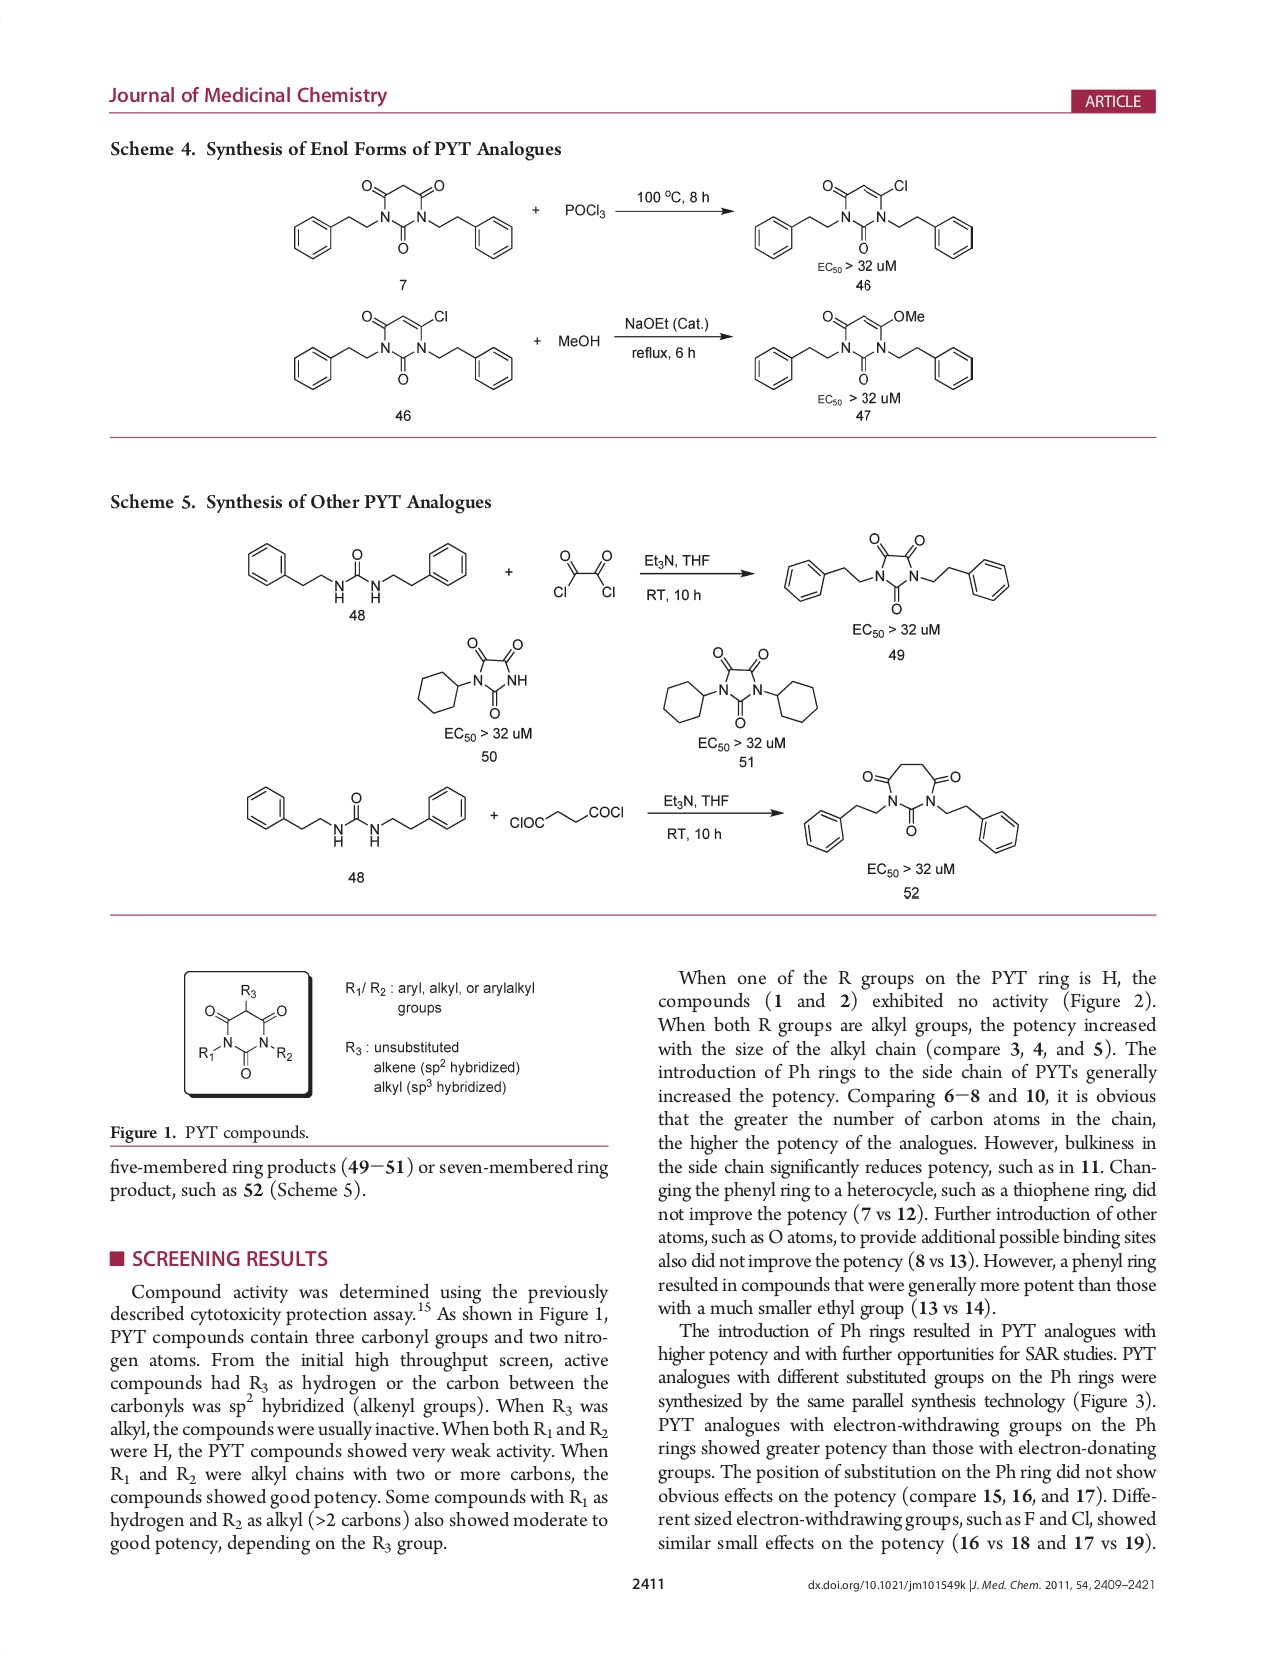exist_molecular: (290, 305, 520, 398), (285, 177, 519, 267), (777, 527, 1011, 617), (799, 762, 1023, 856), (749, 303, 976, 394), (746, 178, 975, 261), (239, 532, 473, 606), (235, 781, 468, 846), (658, 638, 819, 727), (412, 630, 532, 719), (191, 980, 293, 1081), (547, 543, 622, 604), (507, 793, 625, 829)
